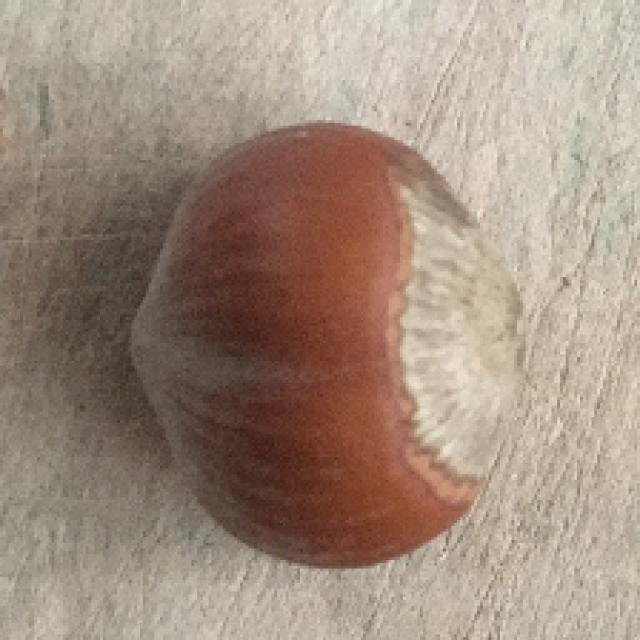QualityHazelnut: (127, 126, 532, 573)
